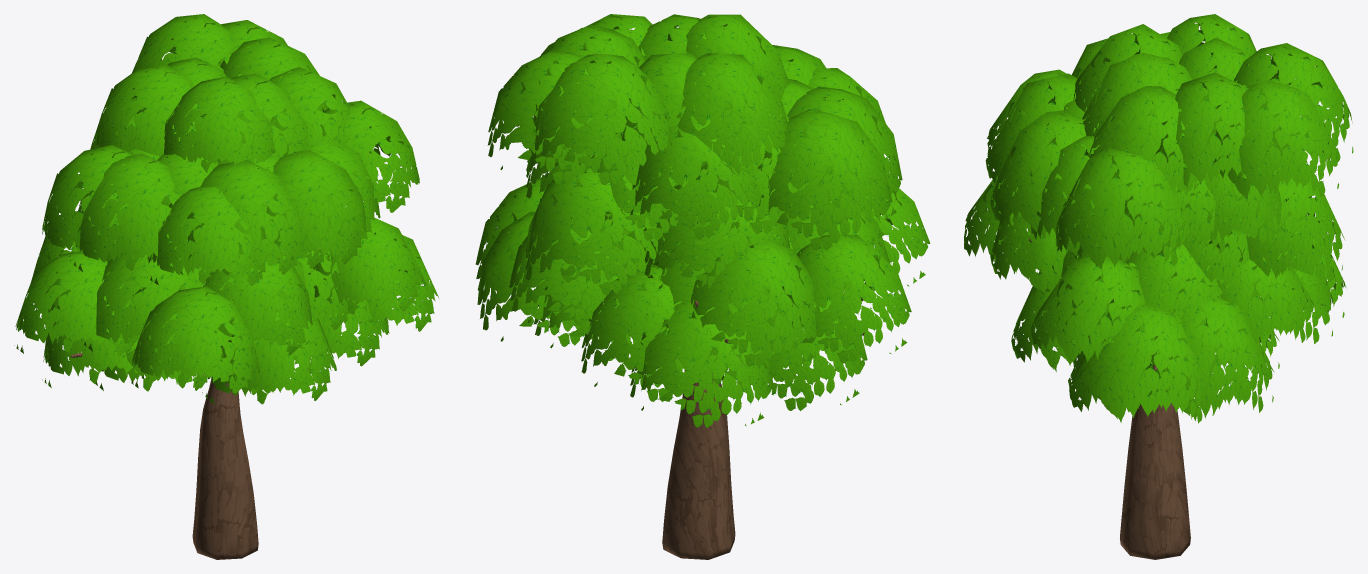
Rendered from TREE 1.fbx.
3 renders of one model, left to right at view 1: azimuth 30°, elevation 25°; view 2: azimuth 150°, elevation 25°; view 3: azimuth 270°, elevation 25°, orthographic. The views are drawn at different scales.
Parts seen in each view (by area): view 1: TREE 1; view 2: TREE 1; view 3: TREE 1.
Part boxes in pixels (x1,y1,x2,y2): TREE 1: (14, 14, 438, 559); TREE 1: (475, 14, 930, 559); TREE 1: (964, 14, 1353, 559).
Size of the model in its own units: 10.1 by 11.57 by 8.02.
